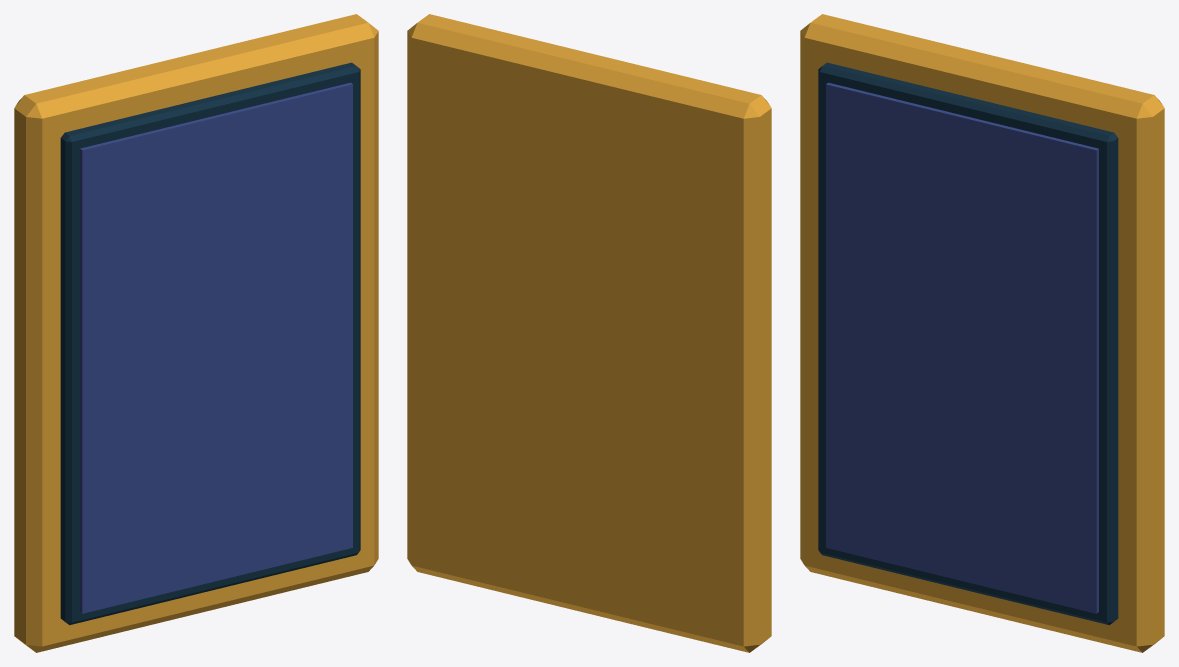
Rendered from poster_frame_a.glb.
3 views of the same model, side by side, from view 1: azimuth 30°, elevation 25°; view 2: azimuth 150°, elevation 25°; view 3: azimuth 330°, elevation 25° (orthographic).
Visible parts, largest first — view 1: poster_frame_a; view 2: poster_frame_a; view 3: poster_frame_a.
Part boxes in pixels (x1,y1,x2,y2): poster_frame_a: [14, 14, 378, 652]; poster_frame_a: [407, 14, 771, 652]; poster_frame_a: [800, 14, 1164, 652].
Bounding box in the file's own units: 0.86 × 1.28 × 0.14.
